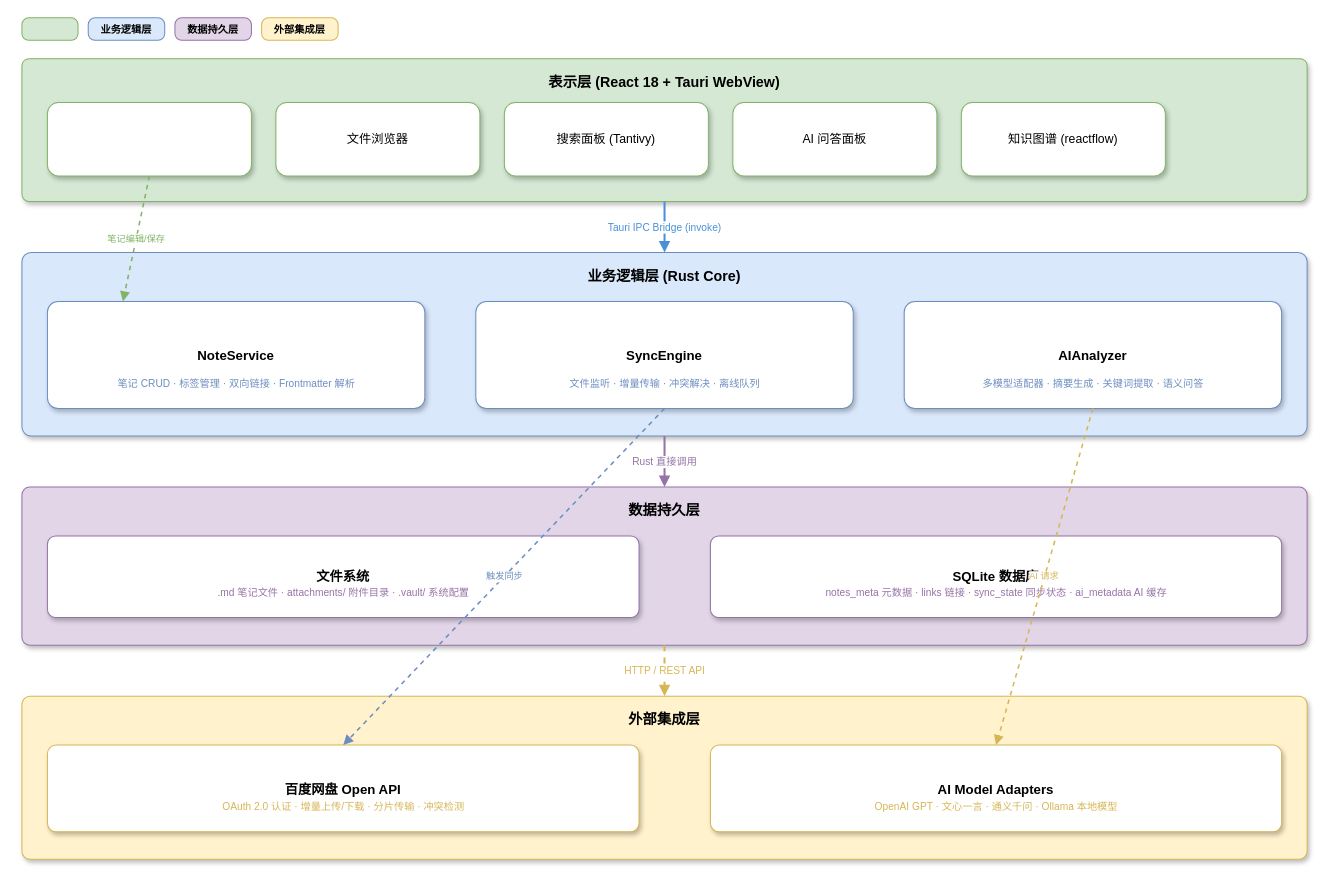
The diagram is 1331 pixels wide and 884 high, and some of its shapes have lost their labels. The centre of each missing label's shape, as x and y in pixels:
"CodeMirror 编辑器" belongs at (x=150, y=140).
"表示层" belongs at (x=49, y=28).
